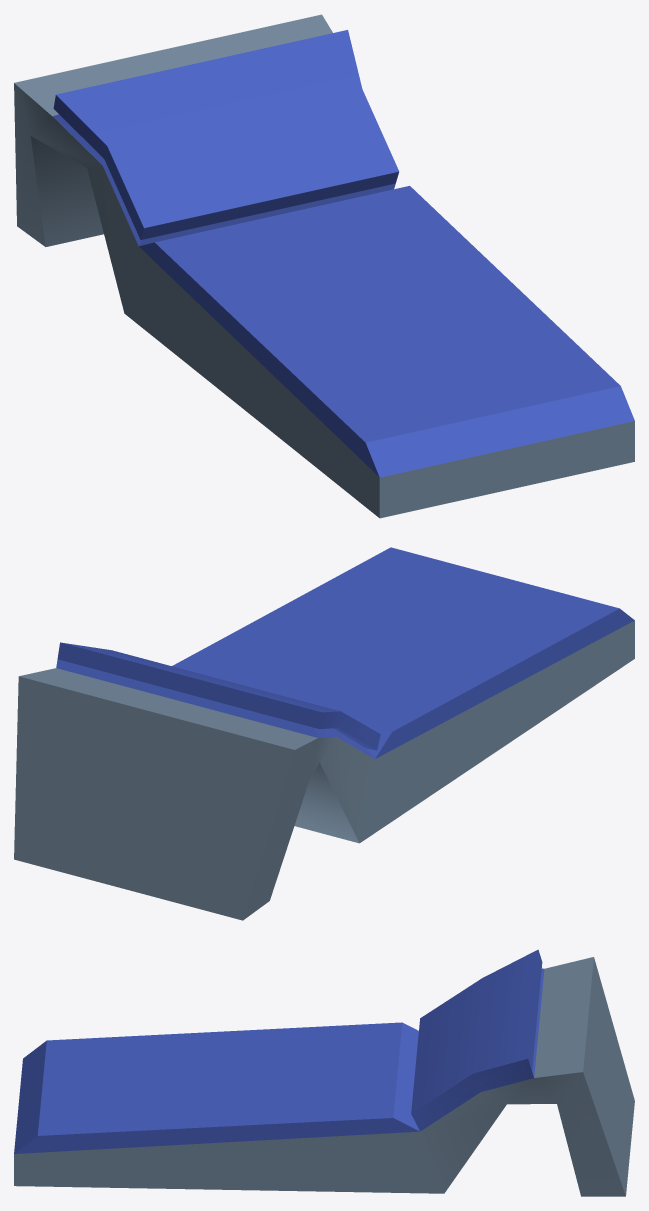
File: beach_chair.fbx
3 renders of one model, top to bottom at view 1: azimuth 30°, elevation 25°; view 2: azimuth 150°, elevation 25°; view 3: azimuth 270°, elevation 25°, orthographic. The views are drawn at different scales.
Parts seen in each view (by area): view 1: beach_chair; view 2: beach_chair; view 3: beach_chair.
Boxes of the visible parts, x1,y1,x2,y2 form: beach_chair: (14,14,634,518); beach_chair: (14,547,634,920); beach_chair: (14,949,634,1196).
Size of the model in its own units: 117 by 68.16 by 268.
